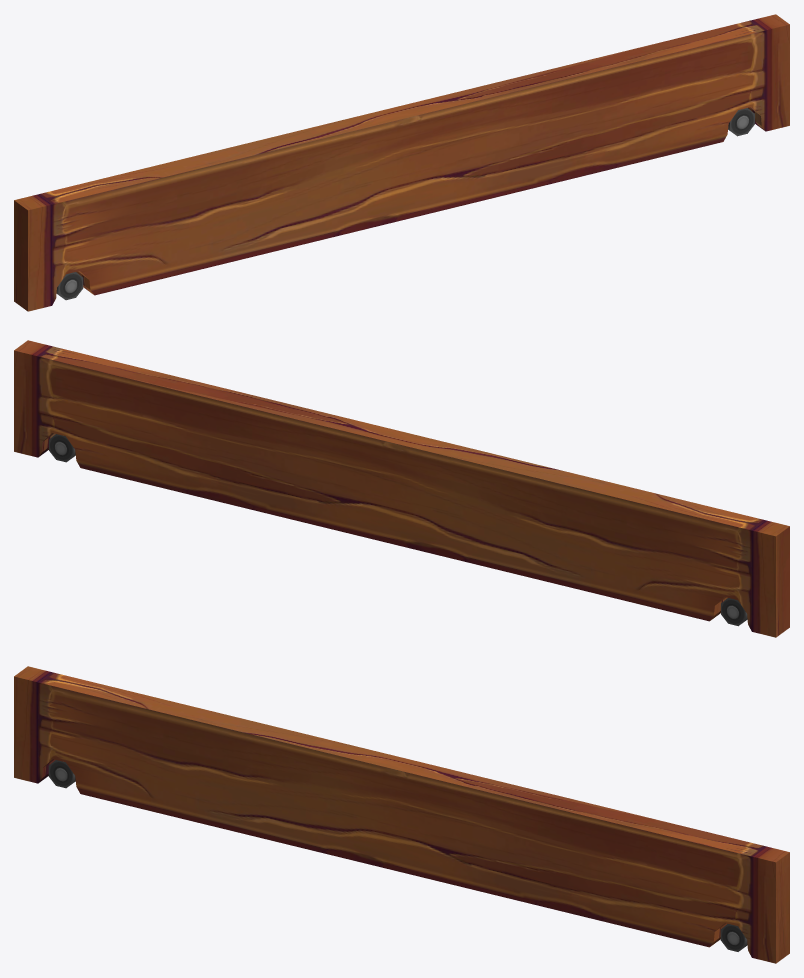
Rendered from dynamic_fence_wood_04.fbx.
3 renders of one model, top to bottom at view 1: azimuth 30°, elevation 25°; view 2: azimuth 150°, elevation 25°; view 3: azimuth 330°, elevation 25°, orthographic.
Parts seen in each view (by area): view 1: dynamic_fence_wood_04; view 2: dynamic_fence_wood_04; view 3: dynamic_fence_wood_04.
Part boxes in pixels (x1,y1,x2,y2): dynamic_fence_wood_04: [14, 14, 789, 311]; dynamic_fence_wood_04: [14, 340, 789, 637]; dynamic_fence_wood_04: [14, 666, 789, 963].
Bounding box in the file's own units: 315 × 40 × 10.08.
